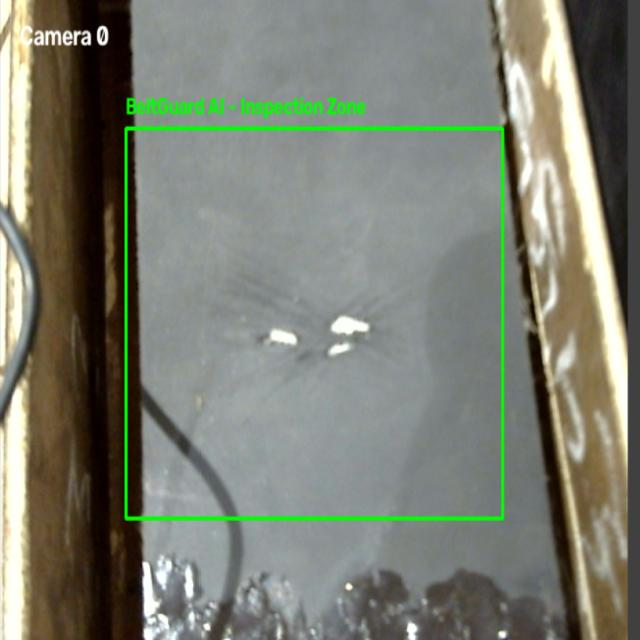scratch: (210, 254, 421, 392)
